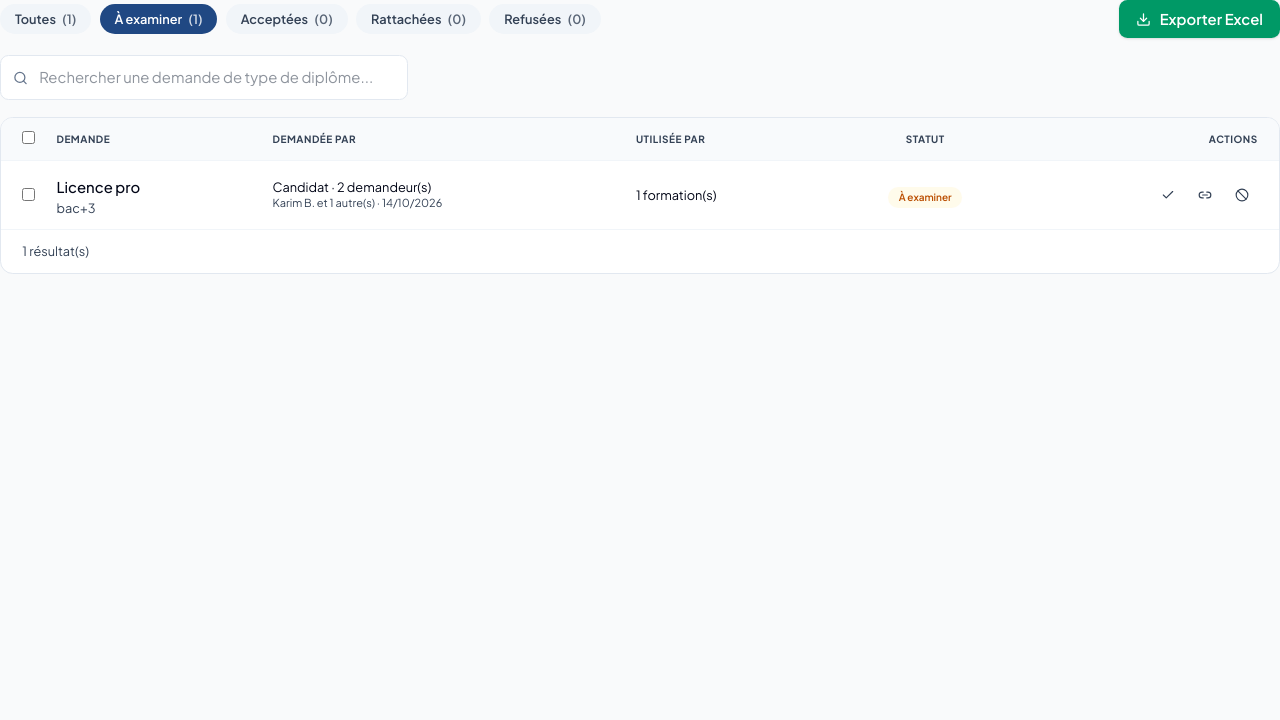
Test: 📥 <DemandesAjoutPanel /> — onglet Demandes du référentiel › 🔴 Refus du serveur : message affiché, fenêtre conservée
Expected: the button "Licence pro" is shown, [56,177,140,198]
Step 1. Click the button named "Refuser Licence pro" → click(1242, 195), box [1227,180,1258,211]
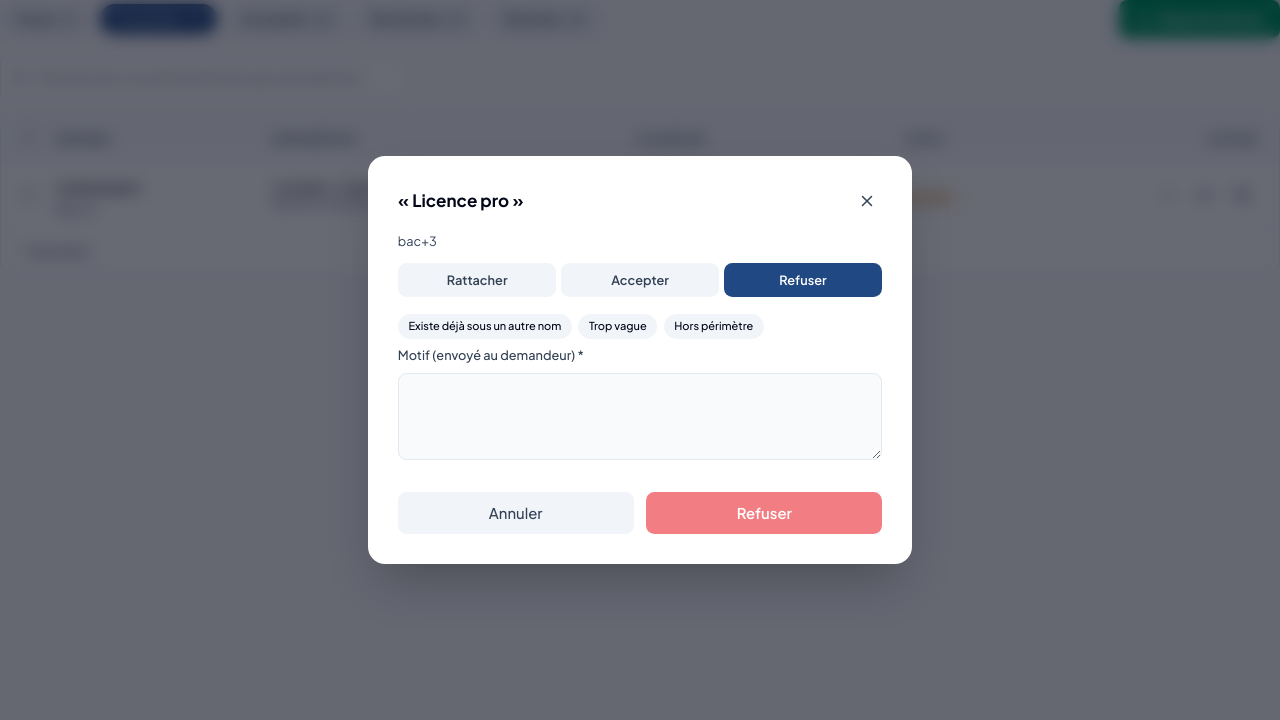
Step 2. Type "Hors périmètre" into the text box labelled "Motif (envoyé au demandeur) *" → (640, 416), box [398,373,882,460]
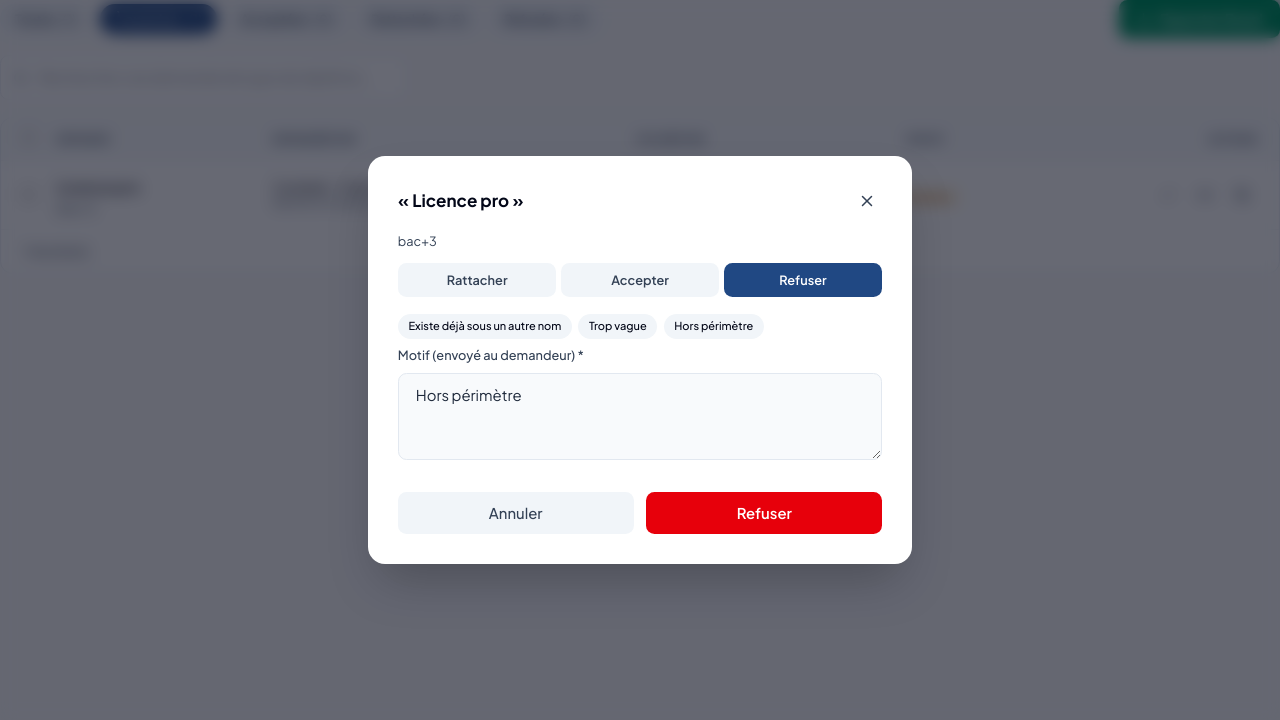
Step 3. Click the button "Refuser" → click(764, 513), box [646,492,882,534]
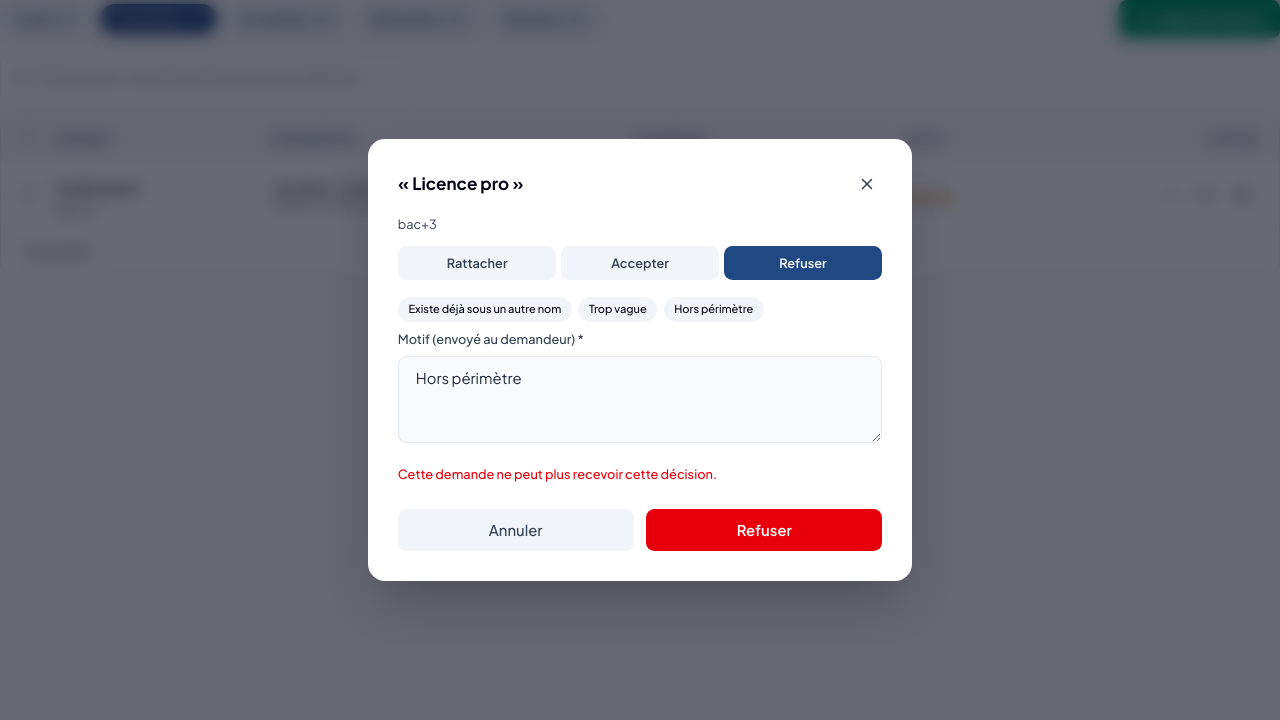
Now the dialog named "Décision sur la demande" is shown, box [368,139,912,581]
Now the message reads "Cette demande ne peut plus recevoir cette décision.", box [398,466,717,482]
